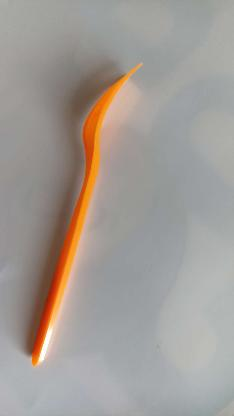Others: (27, 60, 163, 374)
